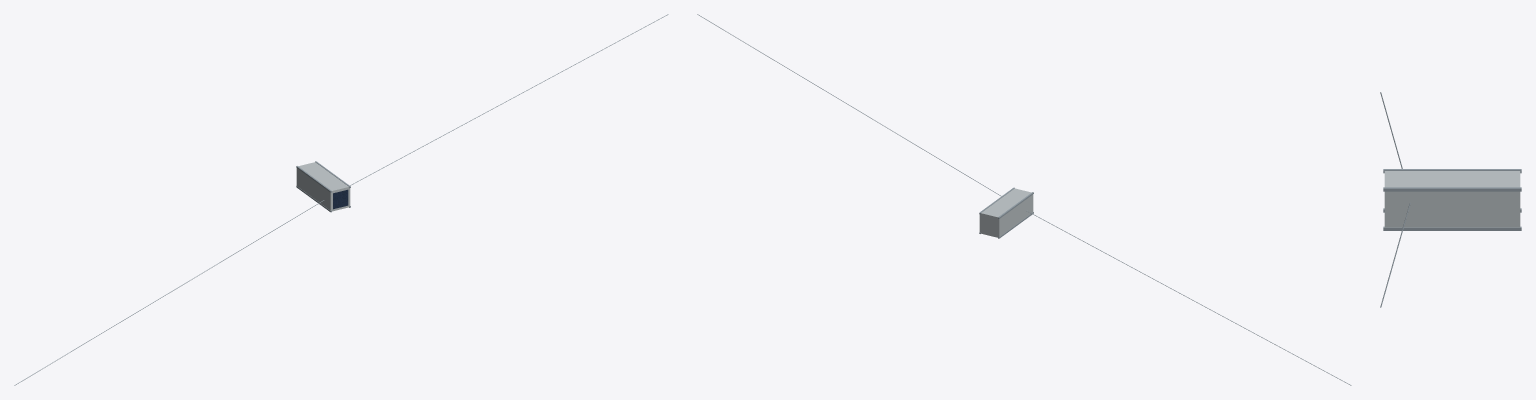
The model's file is ref-cubesat-6u-63245.glb.
3 renders of one model, left to right at view 1: azimuth 30°, elevation 25°; view 2: azimuth 150°, elevation 25°; view 3: azimuth 270°, elevation 25°, orthographic. The views are drawn at different scales.
Visible parts, largest first — view 1: Spacecraft body; view 2: Spacecraft body; view 3: Spacecraft body, Dispenser rail (×3), Antenna boom (×2).
Boxes of the visible parts, x1=… form: Spacecraft body: x1=296, y1=162, x2=350, y2=211; Spacecraft body: x1=979, y1=188, x2=1033, y2=237; Spacecraft body: x1=1384, y1=171, x2=1520, y2=227; Dispenser rail (×3): x1=1383, y1=169, x2=1521, y2=230; Antenna boom (×2): x1=1380, y1=92, x2=1410, y2=307.
Size of the model in its own units: 3.34 by 1.04 by 0.3131.
Materials: 3 (1 with a texture image).
